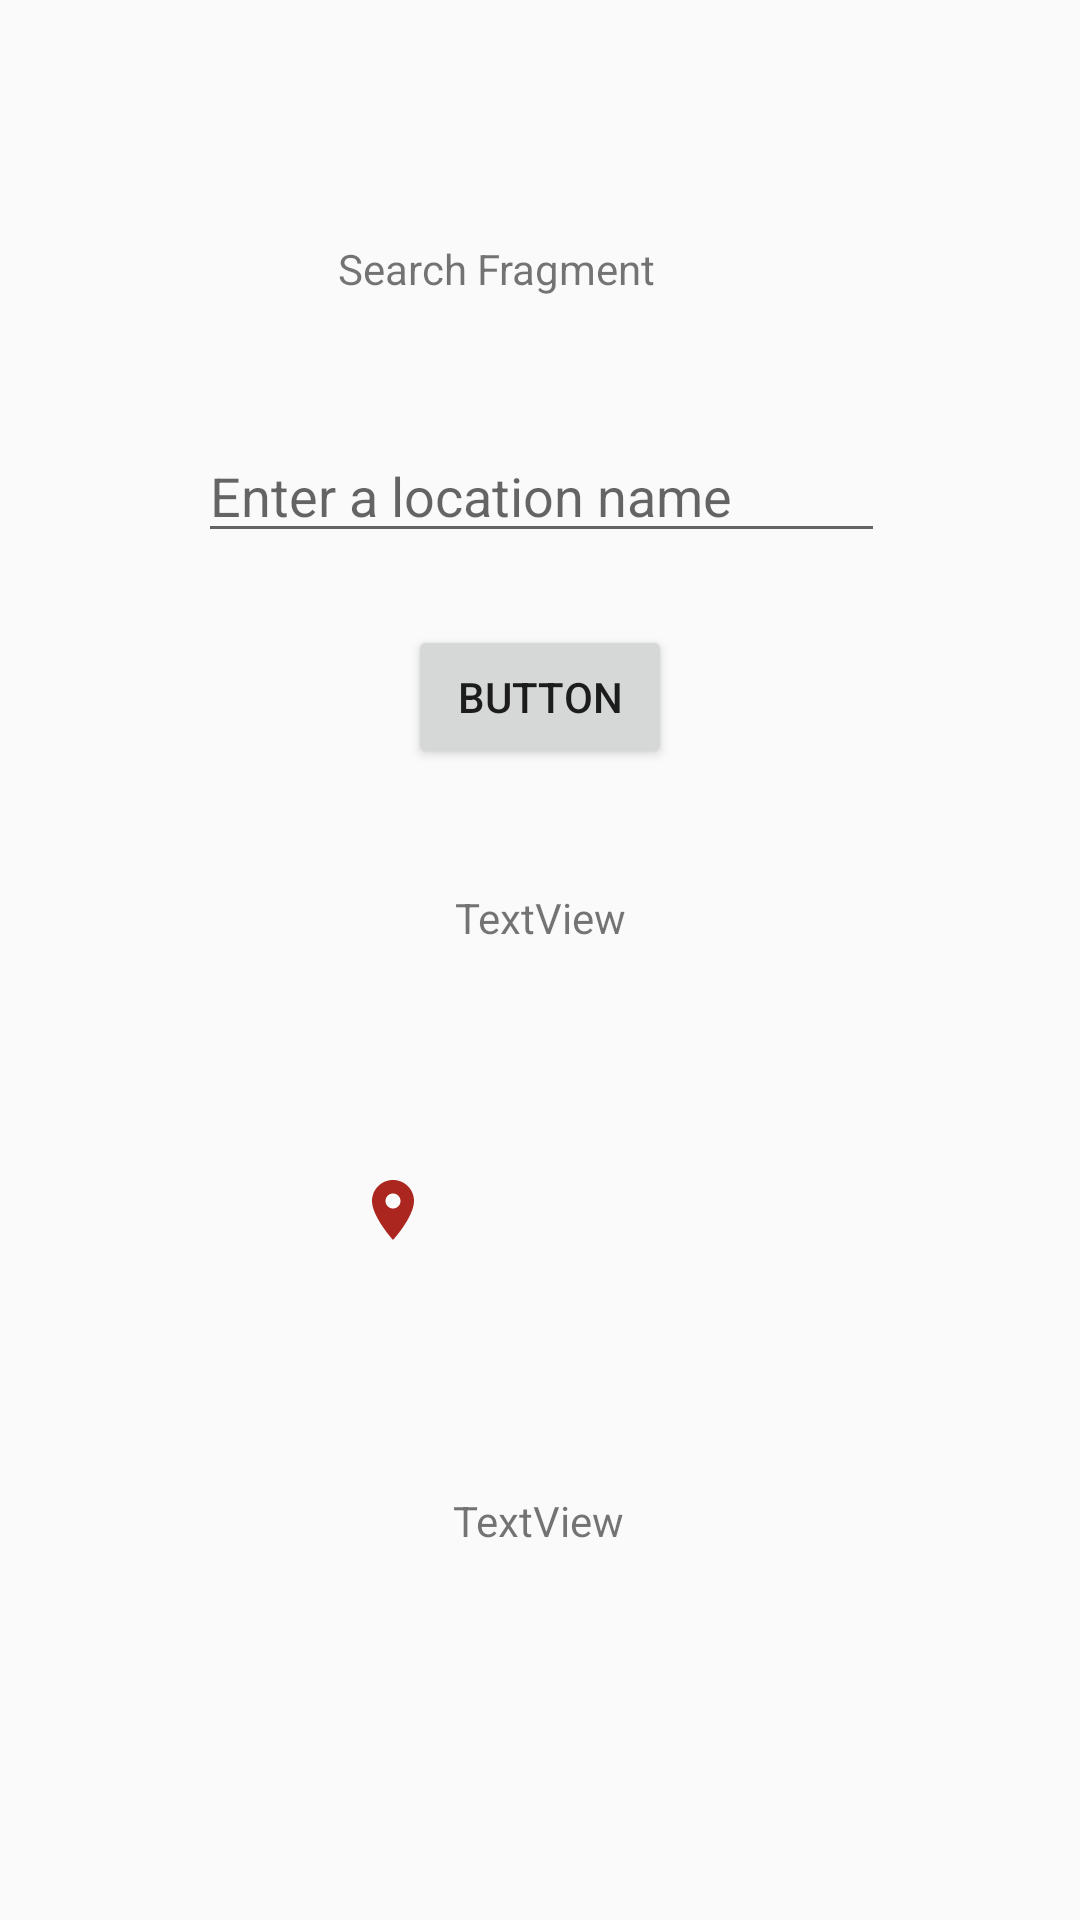

Screen size 1080 × 1920. Icon name, then its center in pixels as (x=x, y=y):
place: (x=393, y=1210)
